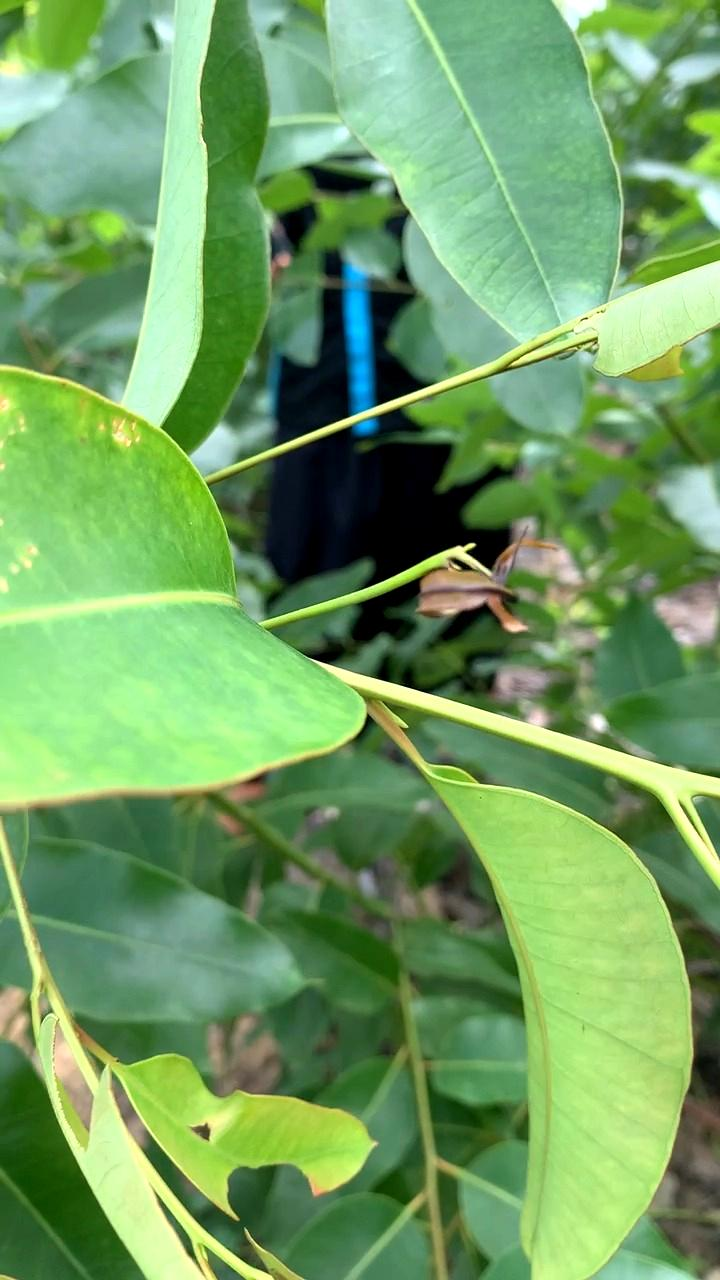Helopeltis-Withered Sprout: (401, 531, 573, 649)
